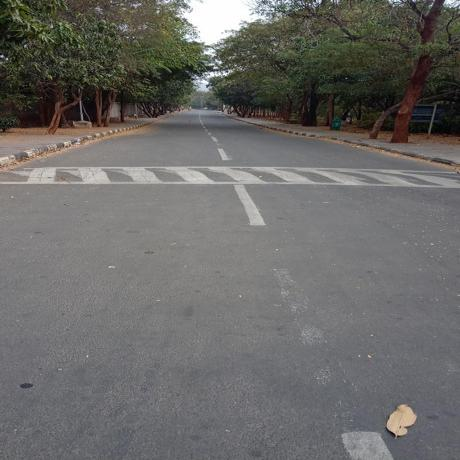Speed Bump: (1, 165, 459, 189)
